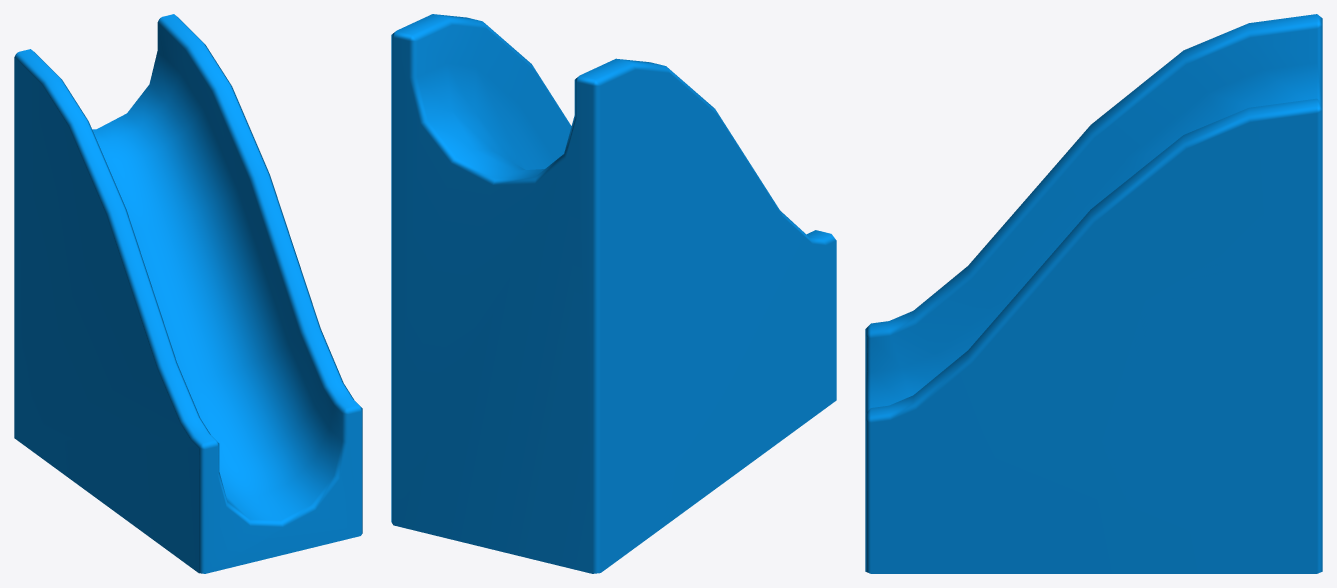
Rendered from Track Ramp Straight Tall 1x2.fbx.
3 views of the same model, side by side, from view 1: azimuth 30°, elevation 25°; view 2: azimuth 150°, elevation 25°; view 3: azimuth 270°, elevation 25° (orthographic). The views are drawn at different scales.
Visible parts, largest first — view 1: Track Ramp Straight Tall 1x2; view 2: Track Ramp Straight Tall 1x2; view 3: Track Ramp Straight Tall 1x2.
Boxes of the visible parts, box(x1,y1,x2,y2) form: Track Ramp Straight Tall 1x2: box(14, 14, 362, 573); Track Ramp Straight Tall 1x2: box(391, 14, 836, 573); Track Ramp Straight Tall 1x2: box(865, 14, 1322, 573).
Bounding box in the file's own units: 100 × 225 × 200.
